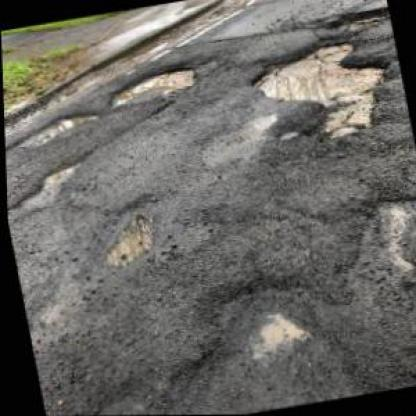pothole: (239, 28, 402, 152), (359, 182, 415, 280), (103, 61, 201, 108), (94, 209, 161, 270), (10, 106, 101, 148)
